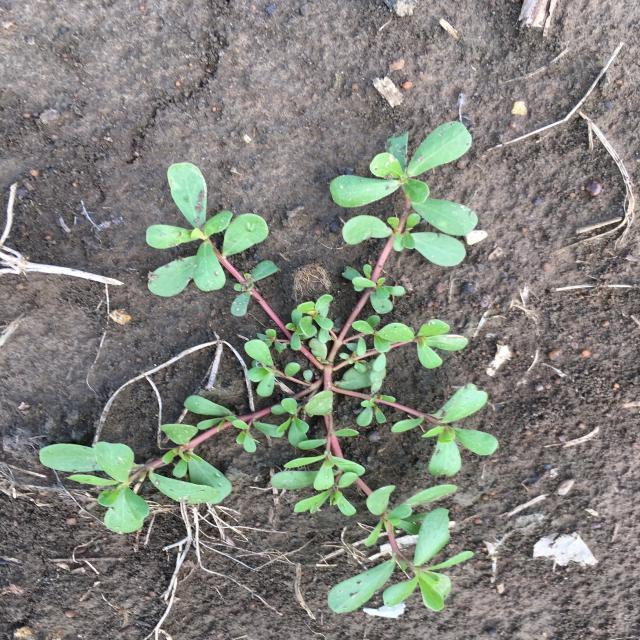Purslane: (39, 121, 499, 613)
